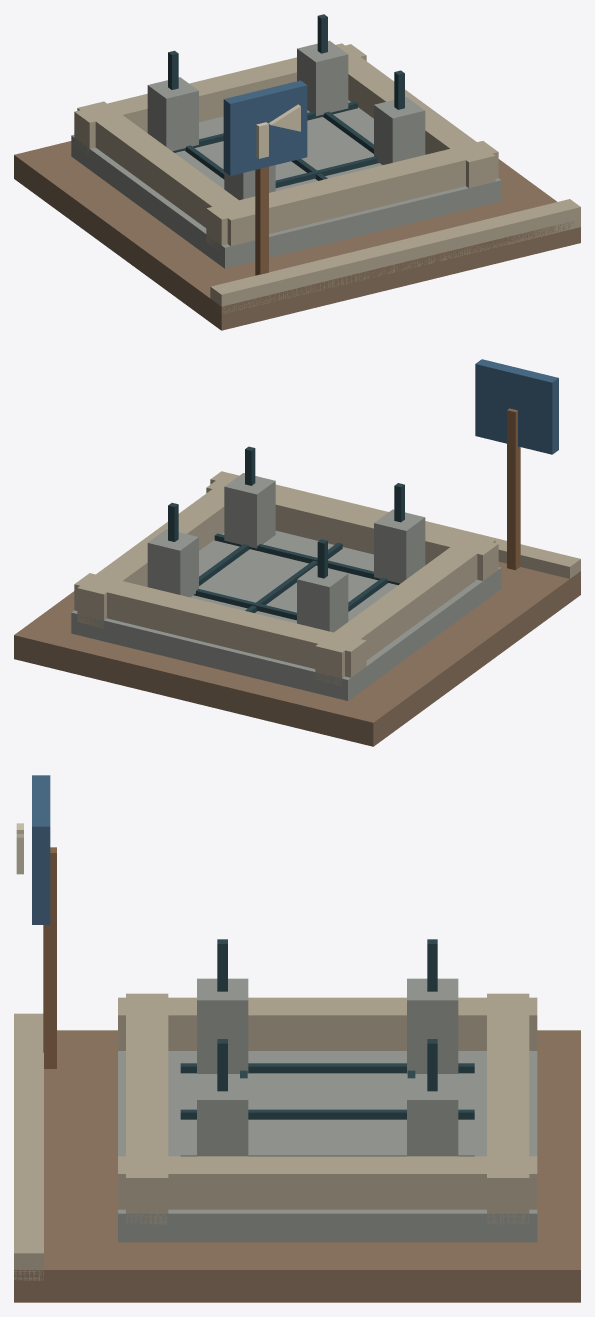
Rendered from lighthouse-seabreeze-foundation.glb.
The picture shows the model from 3 angles, top to bottom: view 1: azimuth 30°, elevation 25°; view 2: azimuth 150°, elevation 25°; view 3: azimuth 270°, elevation 25°; orthographic projection. The views are drawn at different scales.
Parts seen in each view (by area): view 1: lighthouse; view 2: lighthouse; view 3: lighthouse.
Boxes of the visible parts, x1,y1,x2,y2 form: lighthouse: (14, 14, 580, 330); lighthouse: (14, 359, 580, 746); lighthouse: (14, 775, 580, 1302).
Size of the model in its own units: 1.88 by 1.09 by 1.88.
